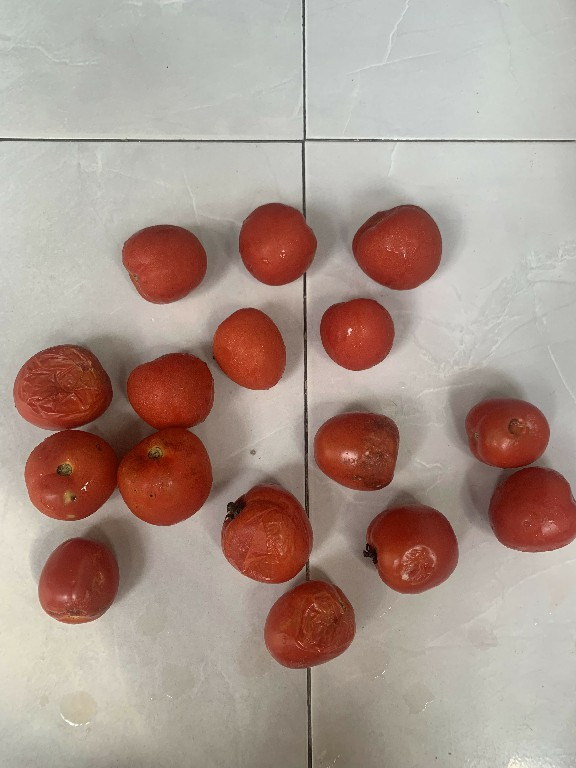NG: (215, 482, 320, 584), (364, 504, 472, 602), (9, 338, 119, 433), (265, 581, 368, 678), (12, 428, 119, 521), (120, 432, 207, 539), (32, 532, 129, 627), (311, 407, 413, 496), (465, 393, 564, 468)
OK: (122, 340, 224, 432), (352, 198, 447, 293), (480, 471, 576, 564), (229, 198, 329, 283), (114, 216, 207, 307), (214, 307, 293, 401), (318, 296, 400, 374)
